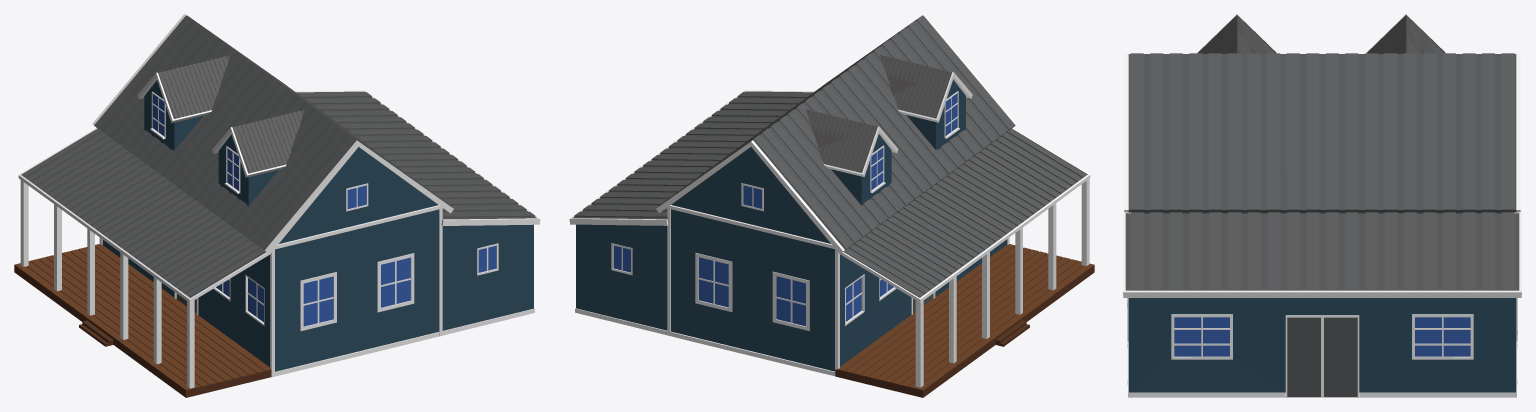
The model's file is FarmHouse_4.fbx.
3 views of the same model, side by side, from view 1: azimuth 30°, elevation 25°; view 2: azimuth 150°, elevation 25°; view 3: azimuth 270°, elevation 25° (orthographic). The views are drawn at different scales.
Visible parts, largest first — view 1: FarmHouse_4; view 2: FarmHouse_4; view 3: FarmHouse_4.
Part boxes in pixels (x1,y1,x2,y2): FarmHouse_4: (14, 14, 540, 397); FarmHouse_4: (569, 14, 1094, 397); FarmHouse_4: (1123, 14, 1521, 397).
Size of the model in its own units: 816 by 469 by 689.
